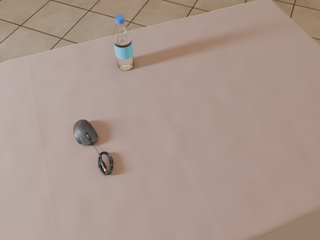bottle: (113, 15, 134, 70)
mouse: (74, 120, 98, 146)
